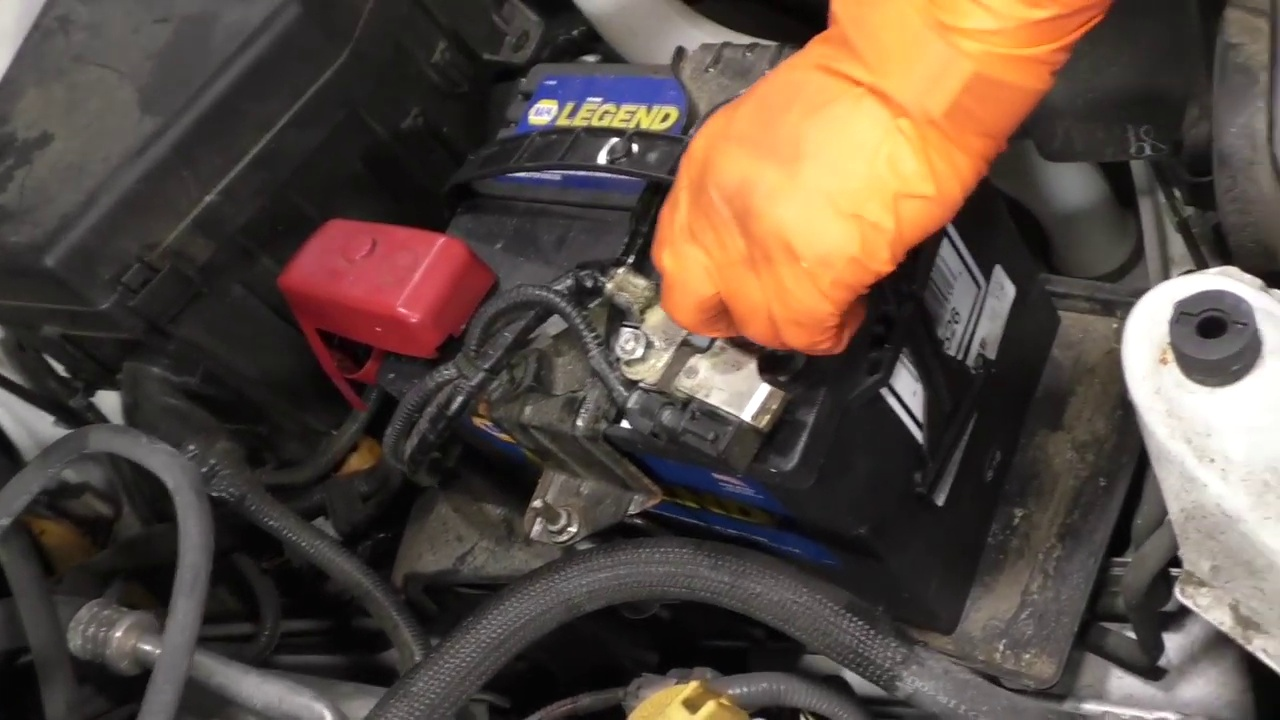battery: (361, 62, 923, 472)
pos_connected: (238, 194, 500, 404)
